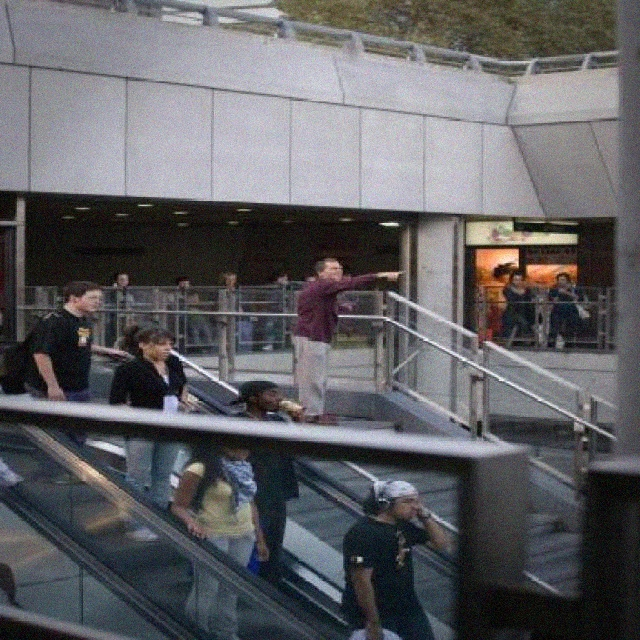stair: (85, 422, 595, 638)
